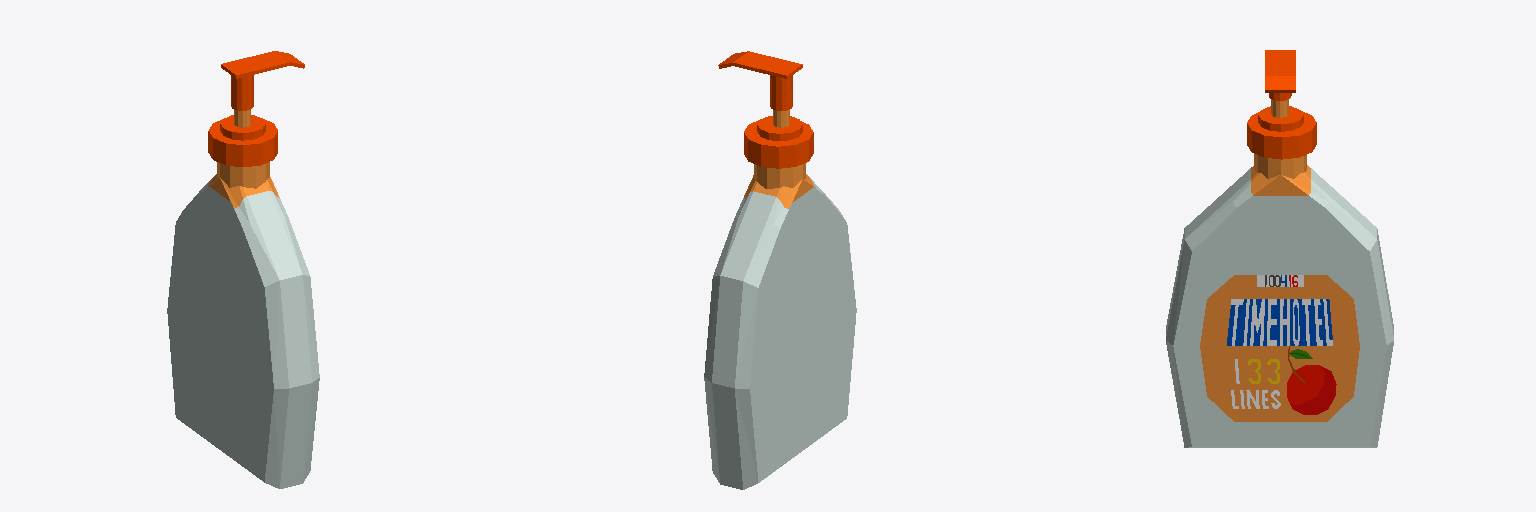
3 renders of one model, left to right at view 1: azimuth 30°, elevation 25°; view 2: azimuth 150°, elevation 25°; view 3: azimuth 270°, elevation 25°, orthographic.
Visible parts, largest first — view 1: group[number redacted]; view 2: group[number redacted]; view 3: group[number redacted].
Boxes of the visible parts, x1=… form: group[number redacted]: x1=167, y1=51, x2=319, y2=488; group[number redacted]: x1=704, y1=51, x2=856, y2=489; group[number redacted]: x1=1166, y1=50, x2=1393, y2=447.
Bounding box in the file's own units: 0.6402 × 2.81 × 1.51.